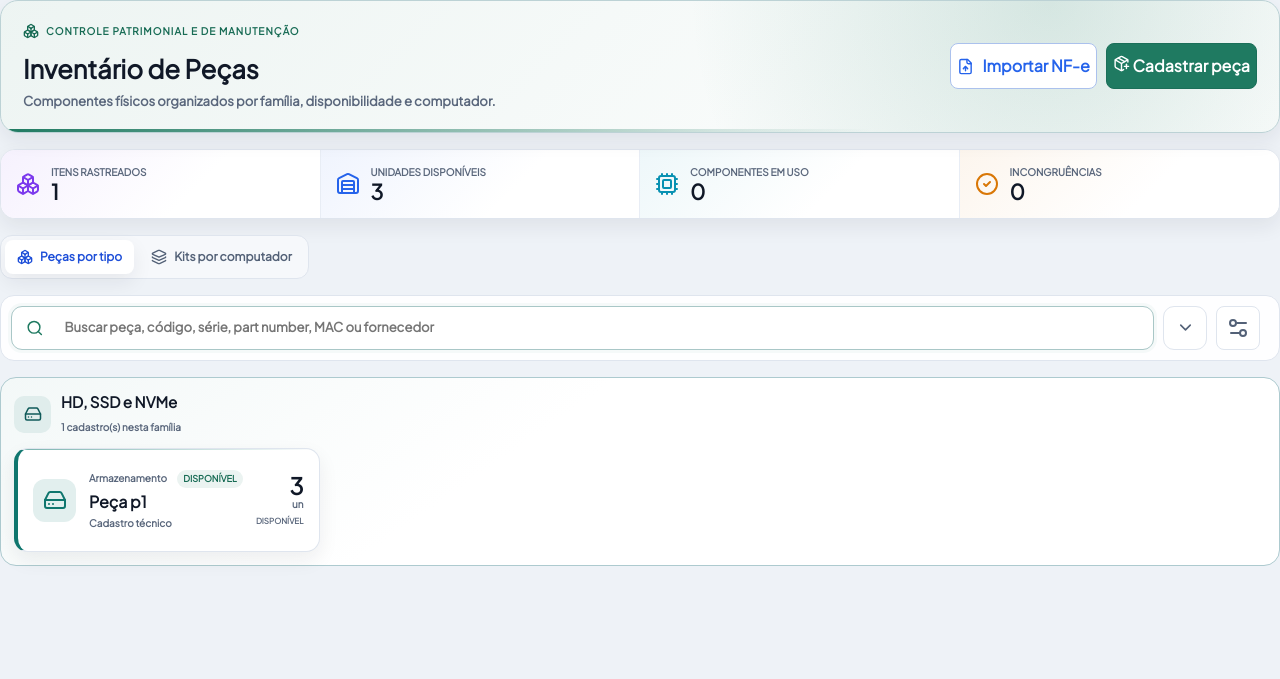
Test: PartsInventoryPage (inspetor) › registra movimentação de estoque e mostra o histórico
Click the button "Peça p1" at point(54, 500), box [14,448,320,552]
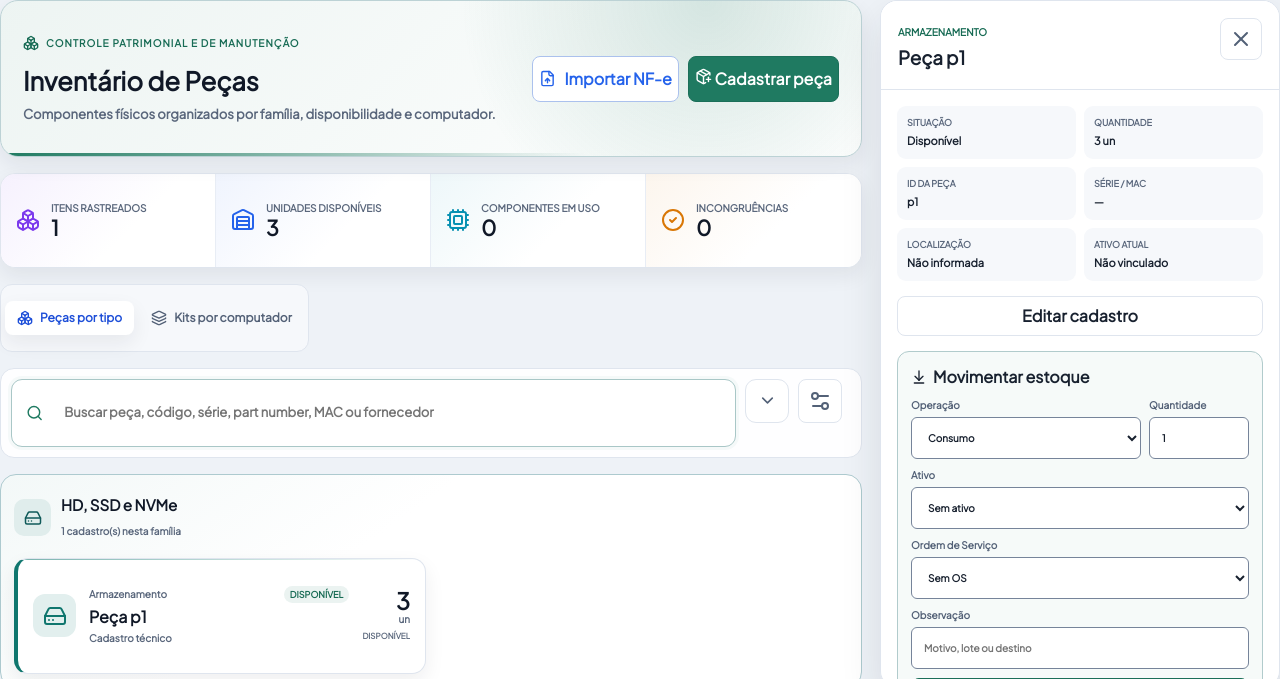
Expected: the dropdown labelled "Operação" shows "Consumo"
Select "Retorno" in the dropdown labelled "Operação" at point(1026, 438), box [911,417,1141,459]
Replace the text in the number field labelled "Quantidade" with "4" at point(1199, 438), box [1149,417,1249,459]
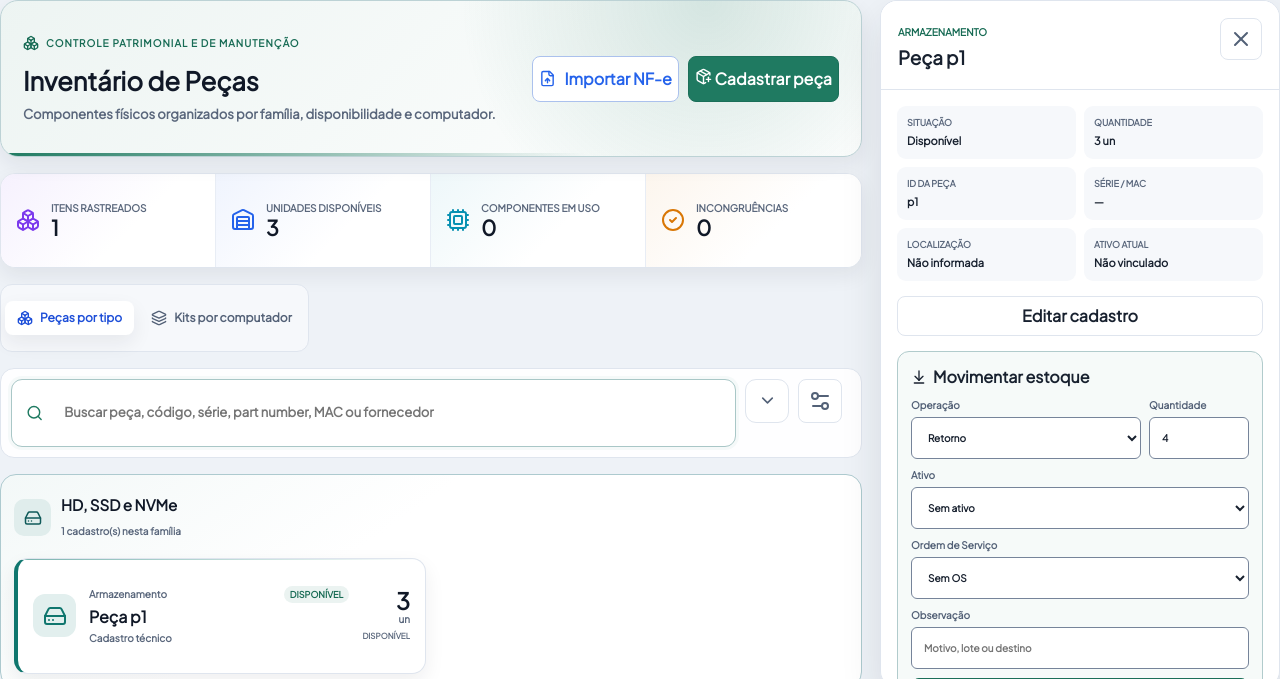
Select "PC Financeiro" in the dropdown labelled "Ativo" at point(1080, 508), box [911,487,1249,529]
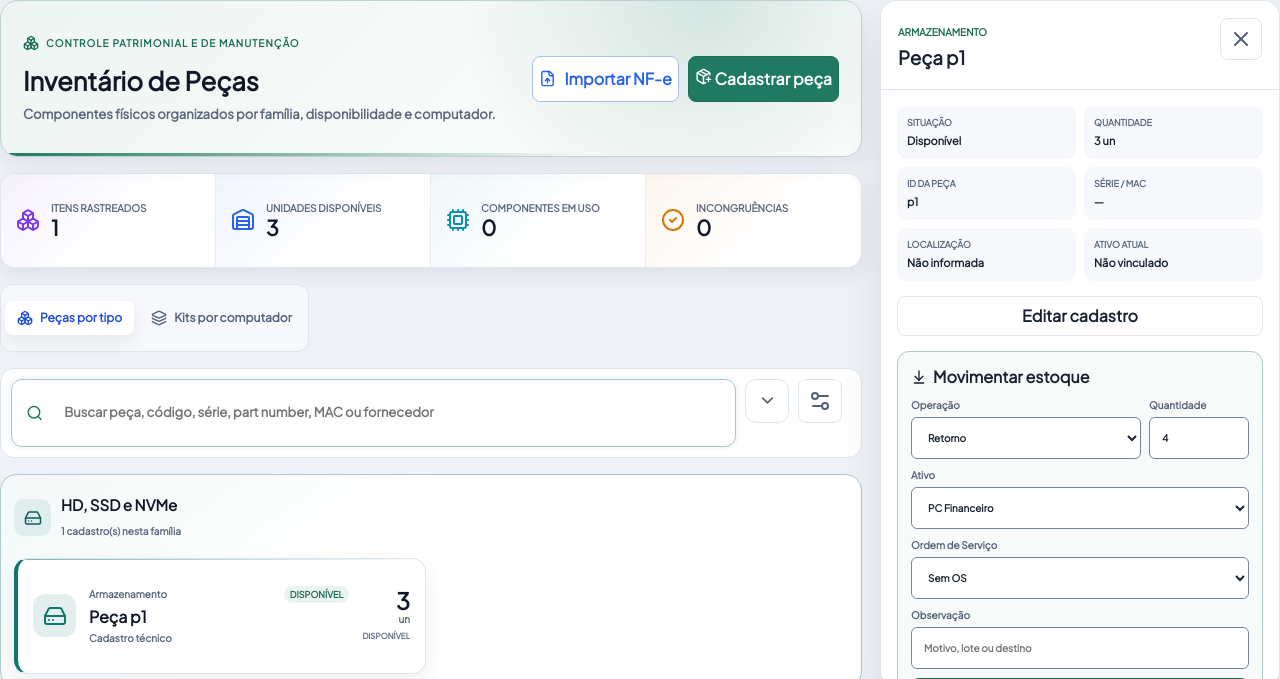
Select "OS-1 · Aberta" in the dropdown labelled "Ordem de Serviço" at point(1080, 578), box [911,557,1249,599]
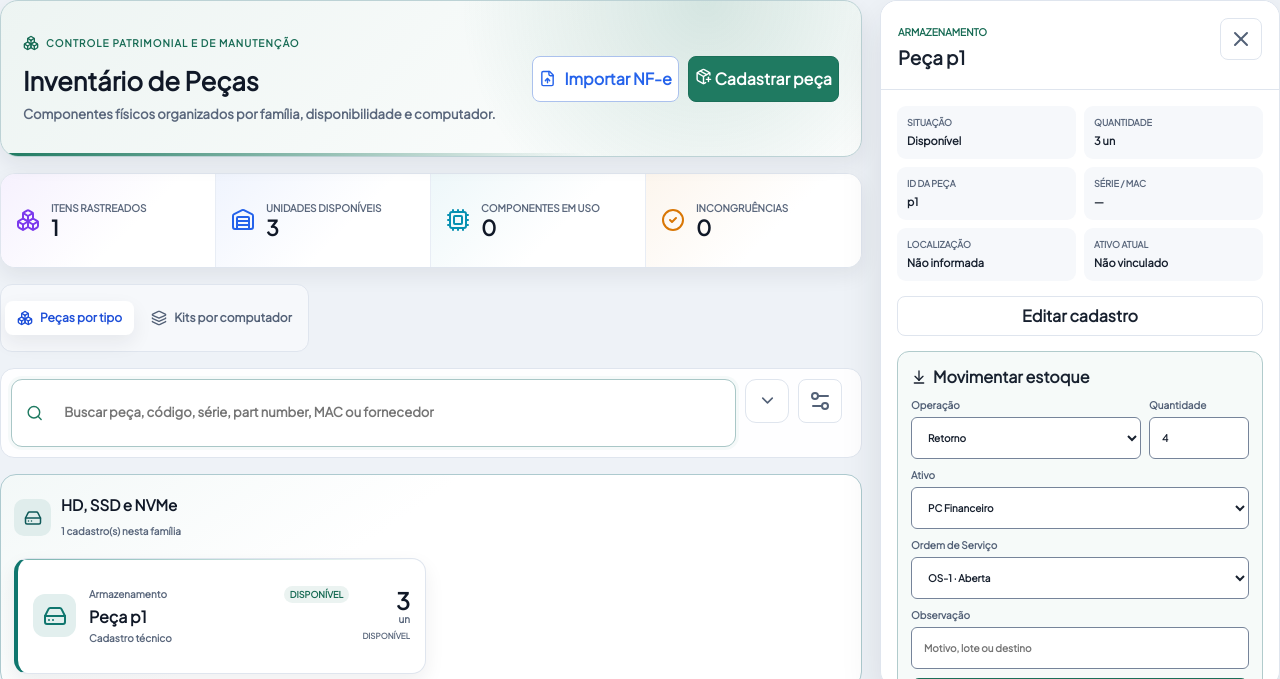
Type "Devolvida" into the field labelled "Observação" at point(1080, 648), box [911,627,1249,669]
(page scrolled)
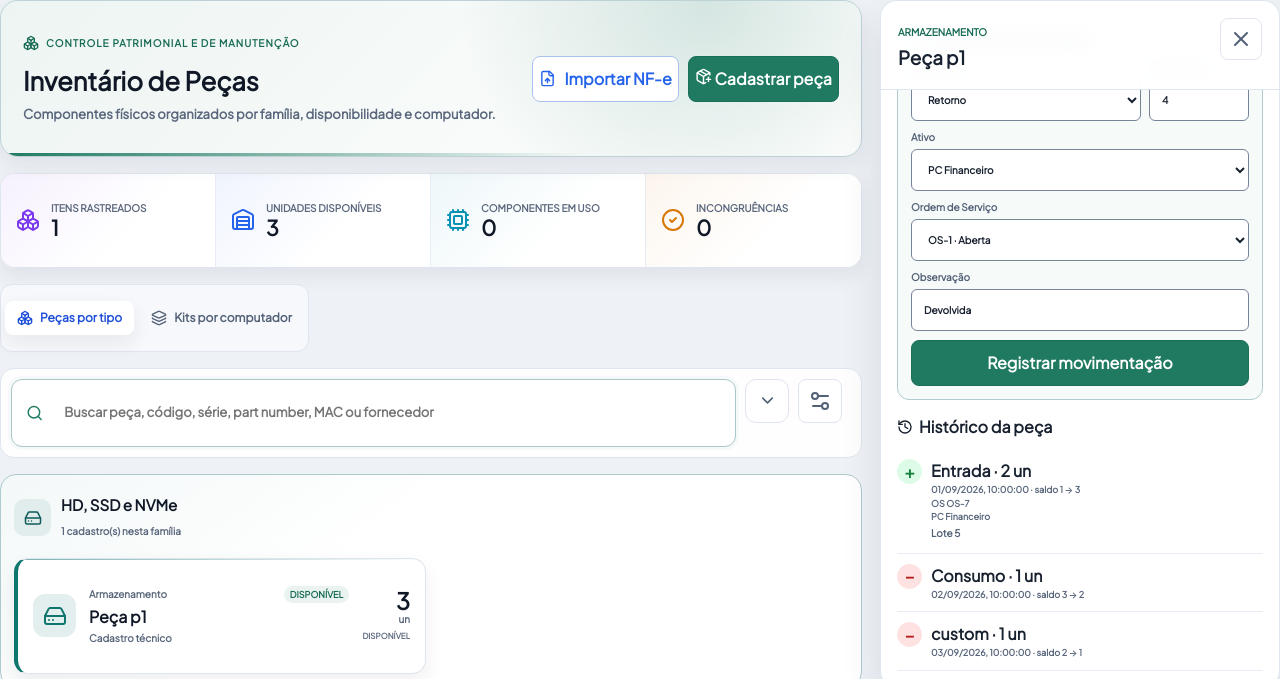
Click the button "Registrar movimentação" at point(1080, 363), box [911,340,1249,386]
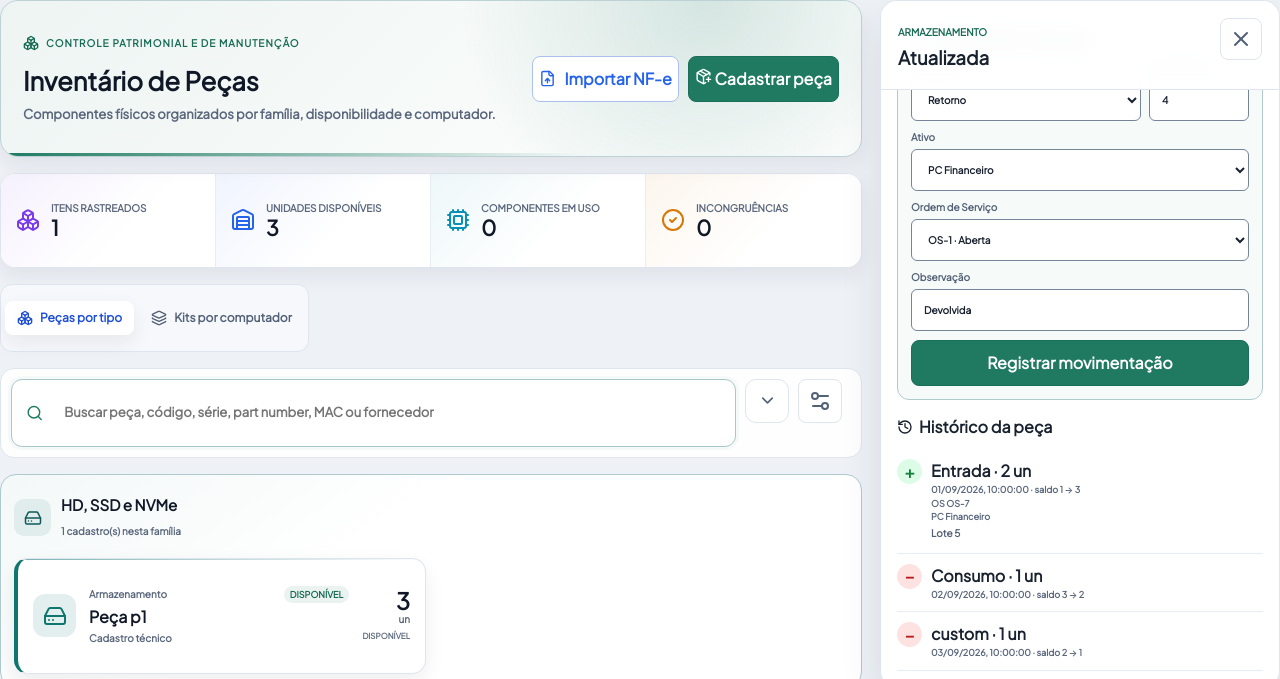
Expected: the heading "Atualizada" is shown, [898,44,989,72]
